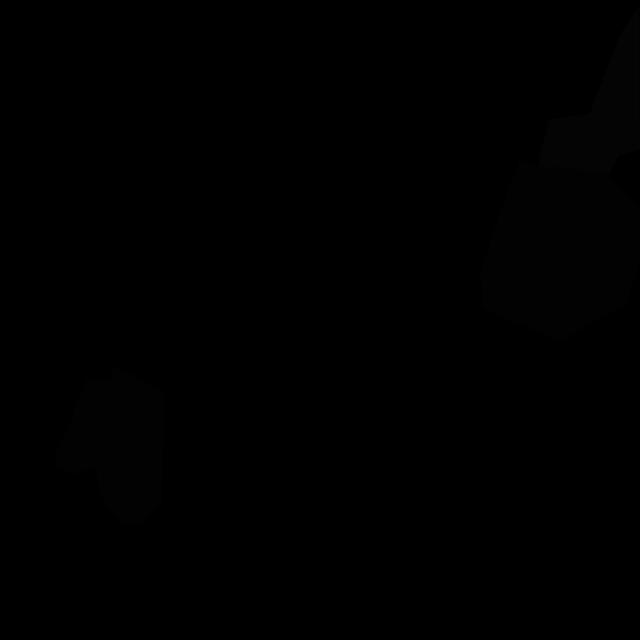cardboard: (480, 160, 640, 342), (56, 366, 165, 527)
soft_plastic: (538, 4, 640, 176)
